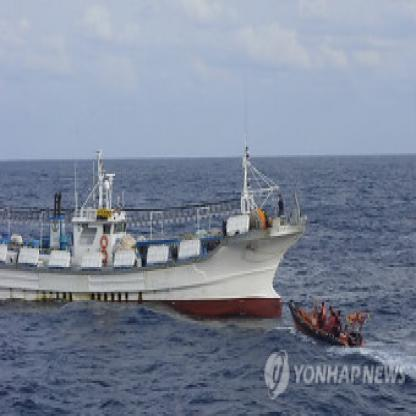fish-b: (0, 143, 313, 329)
